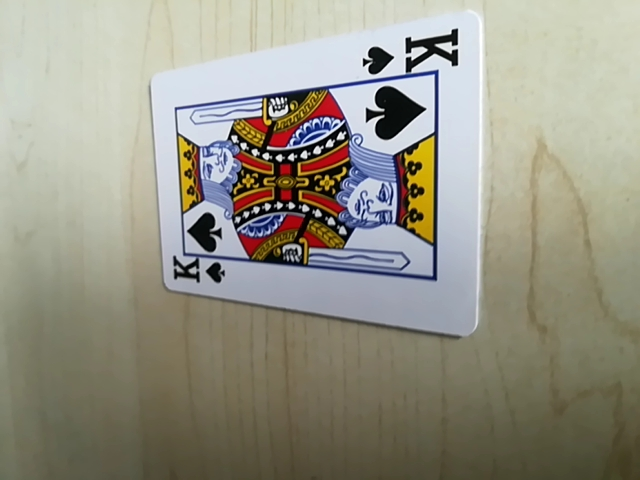ht k: (361, 24, 464, 80), (167, 253, 227, 291)
